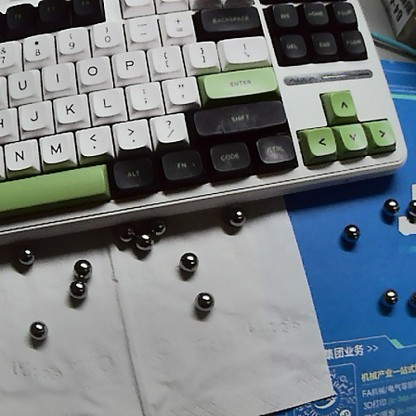ironball: (24, 310, 54, 350), (187, 285, 218, 315), (128, 227, 160, 253), (175, 250, 203, 276), (340, 221, 363, 247), (228, 207, 250, 234), (17, 244, 37, 273), (376, 195, 401, 218), (150, 215, 172, 239), (114, 220, 133, 247), (74, 255, 95, 279), (380, 285, 400, 310), (66, 276, 86, 299), (402, 194, 414, 219)
